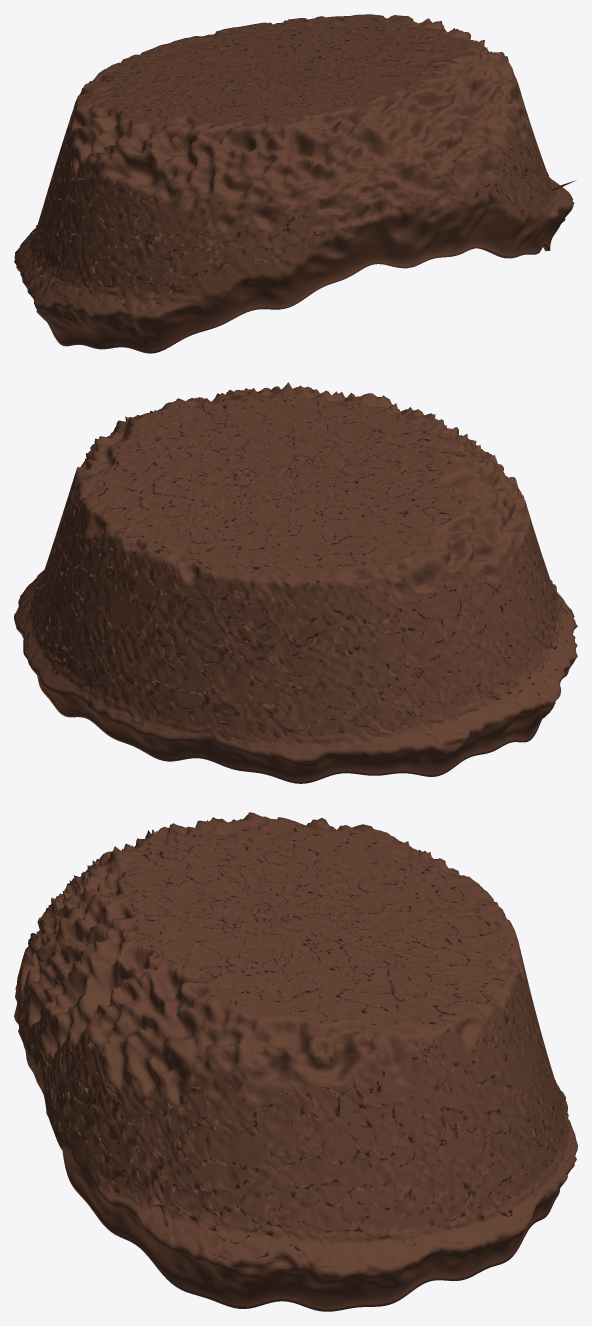
Rendered from Masculine-afro-bucket252-hair.glb.
The picture shows the model from 3 angles, top to bottom: view 1: azimuth 30°, elevation 25°; view 2: azimuth 150°, elevation 25°; view 3: azimuth 270°, elevation 25°; orthographic projection. The views are drawn at different scales.
Visible parts, largest first — view 1: 226 hair / Hair252 / dense natural coil groups.001; view 2: 226 hair / Hair252 / dense natural coil groups.001; view 3: 226 hair / Hair252 / dense natural coil groups.001.
Part boxes in pixels (x1,y1,x2,y2): 226 hair / Hair252 / dense natural coil groups.001: [14, 14, 576, 353]; 226 hair / Hair252 / dense natural coil groups.001: [14, 382, 577, 783]; 226 hair / Hair252 / dense natural coil groups.001: [14, 812, 577, 1311].
Size of the model in its own units: 1.05 by 0.4575 by 0.8203.
